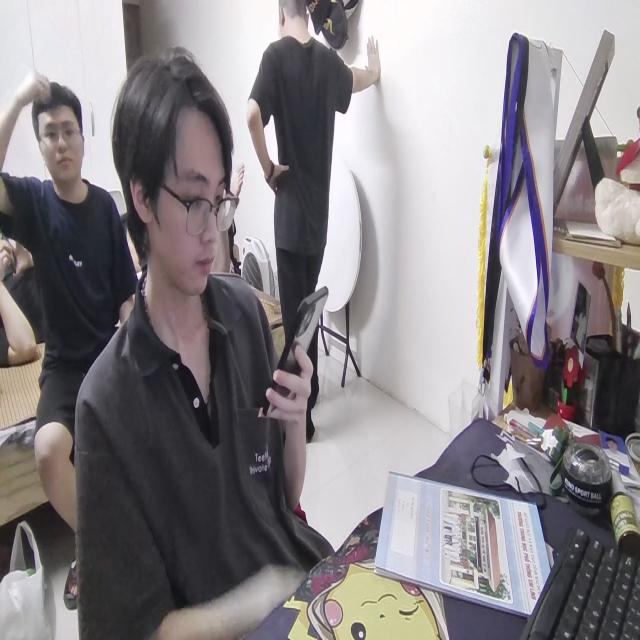book: (370, 466, 552, 617)
extra_person: (0, 68, 131, 561), (246, 0, 382, 394)
student: (74, 44, 330, 640)
